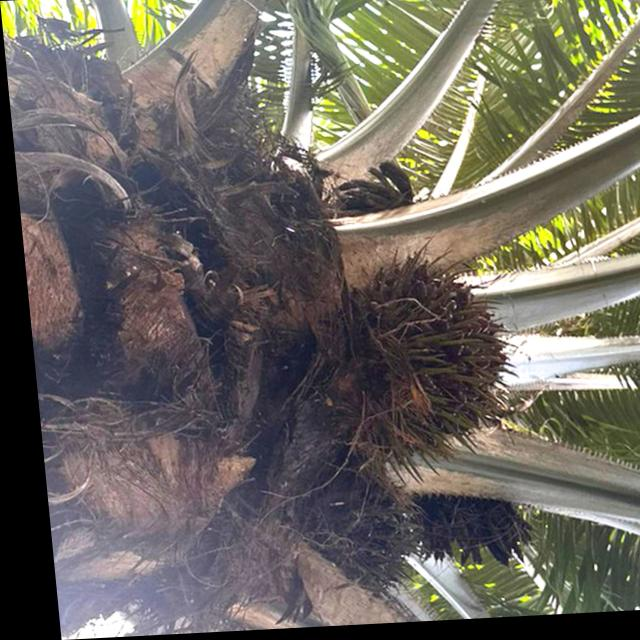ripe: (317, 231, 534, 497)
